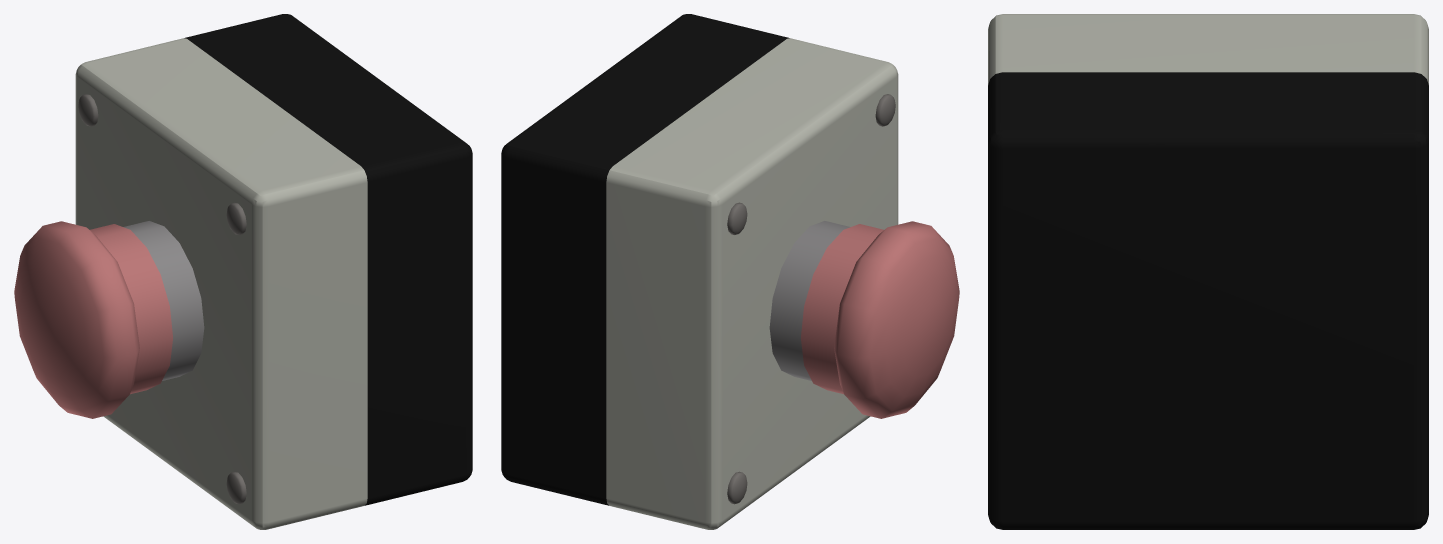
The model's file is push_button 1.fbx.
3 renders of one model, left to right at view 1: azimuth 30°, elevation 25°; view 2: azimuth 150°, elevation 25°; view 3: azimuth 270°, elevation 25°, orthographic. The views are drawn at different scales.
Parts seen in each view (by area): view 1: polySurface1, polySurface2, push_button, polySurface4, polySurface3; view 2: polySurface1, polySurface2, push_button, polySurface4, polySurface3; view 3: polySurface2, polySurface1.
Part boxes in pixels (x1=…): polySurface1: x1=75, y1=38, x2=367, y2=529; polySurface2: x1=184, y1=14, x2=472, y2=505; push_button: x1=14, y1=94, x2=246, y2=504; polySurface4: x1=90, y1=224, x2=172, y2=394; polySurface3: x1=123, y1=221, x2=204, y2=380; polySurface1: x1=606, y1=38, x2=898, y2=529; polySurface2: x1=501, y1=14, x2=789, y2=505; push_button: x1=727, y1=94, x2=959, y2=504; polySurface4: x1=801, y1=224, x2=883, y2=394; polySurface3: x1=769, y1=221, x2=850, y2=380; polySurface2: x1=988, y1=72, x2=1428, y2=529; polySurface1: x1=988, y1=14, x2=1428, y2=84.
Bounding box in the file's own units: 15.28 × 14.42 × 14.42.
